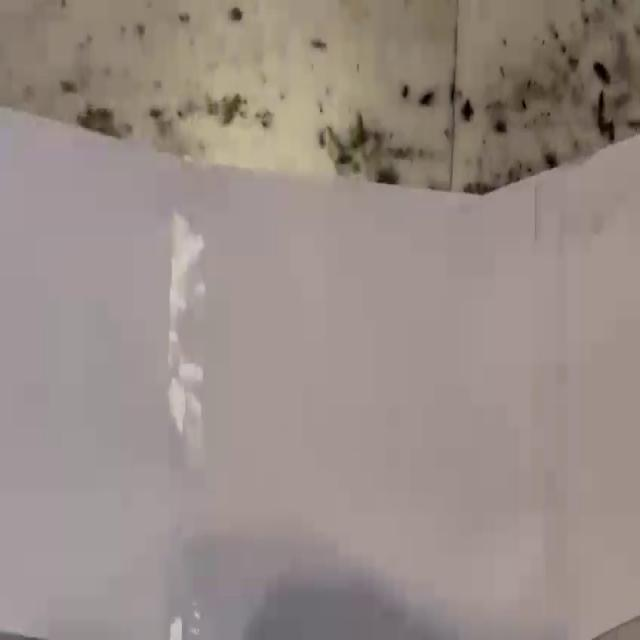road: (0, 109, 640, 639)
